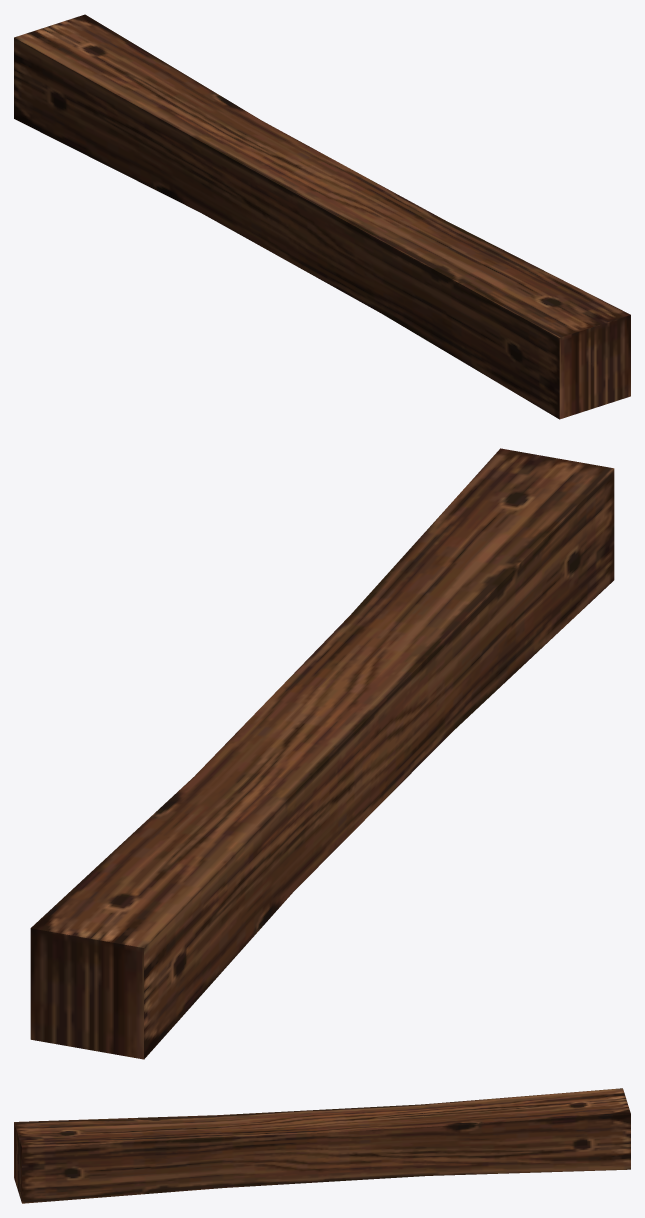
The model's file is OVERHILL_A_01_POST42.fbx.
3 renders of one model, top to bottom at view 1: azimuth 30°, elevation 25°; view 2: azimuth 150°, elevation 25°; view 3: azimuth 270°, elevation 25°, orthographic. The views are drawn at different scales.
Visible parts, largest first — view 1: OVERHILL_A_01_POST42; view 2: OVERHILL_A_01_POST42; view 3: OVERHILL_A_01_POST42.
Part boxes in pixels (x1=…): OVERHILL_A_01_POST42: x1=14, y1=14, x2=630, y2=419; OVERHILL_A_01_POST42: x1=30, y1=448, x2=614, y2=1059; OVERHILL_A_01_POST42: x1=14, y1=1088, x2=630, y2=1203.
Bounding box in the file's own units: 6550 × 2861 × 28620.
Materials: 1 (1 with a texture image).
